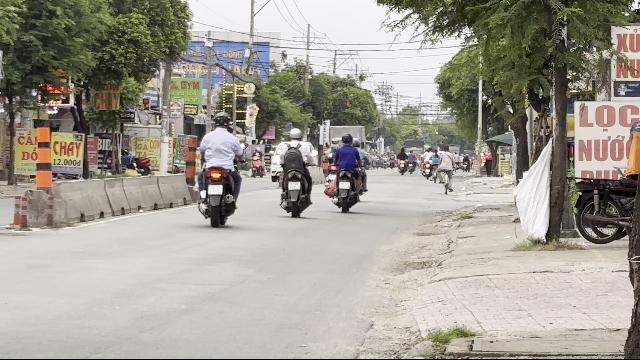helmet: (212, 110, 230, 130)
licenseplate: (208, 185, 222, 195)
motorcyclist: (194, 110, 242, 226)
